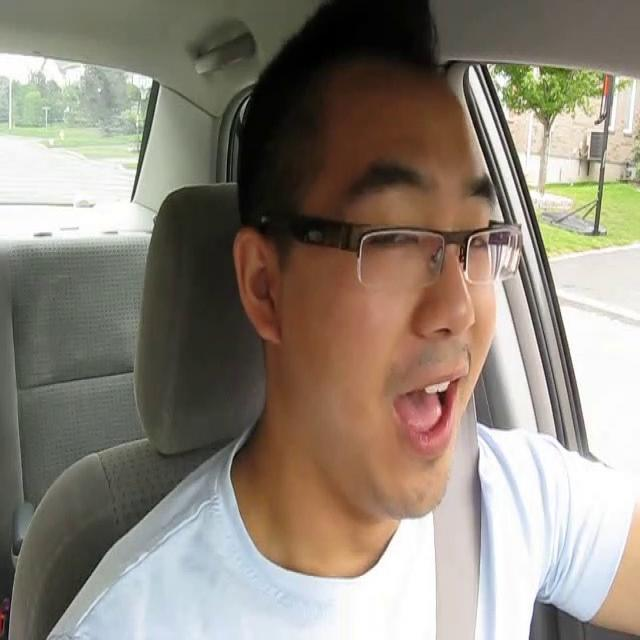open: (338, 150, 439, 272), (466, 166, 503, 271)
